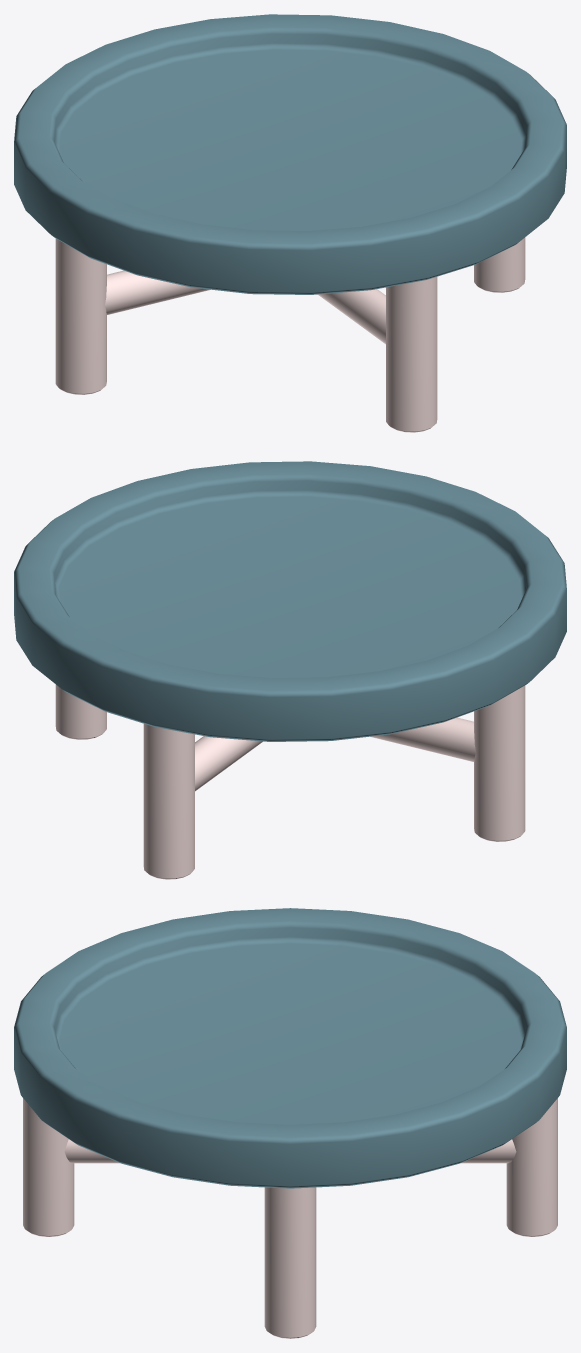
The model's file is Town_16_Table_1.glb.
3 views of the same model, one above another, from view 1: azimuth 30°, elevation 25°; view 2: azimuth 150°, elevation 25°; view 3: azimuth 270°, elevation 25° (orthographic).
Parts seen in each view (by area): view 1: Town_16_Table_1; view 2: Town_16_Table_1; view 3: Town_16_Table_1.
Part boxes in pixels (left/top/right/bottom): Town_16_Table_1: left=14, top=14, right=566, bottom=432; Town_16_Table_1: left=14, top=461, right=566, bottom=879; Town_16_Table_1: left=14, top=908, right=566, bottom=1338.
Bounding box in the file's own units: 1.15 × 0.4702 × 1.15.
Materials: 1 (1 with a texture image).
